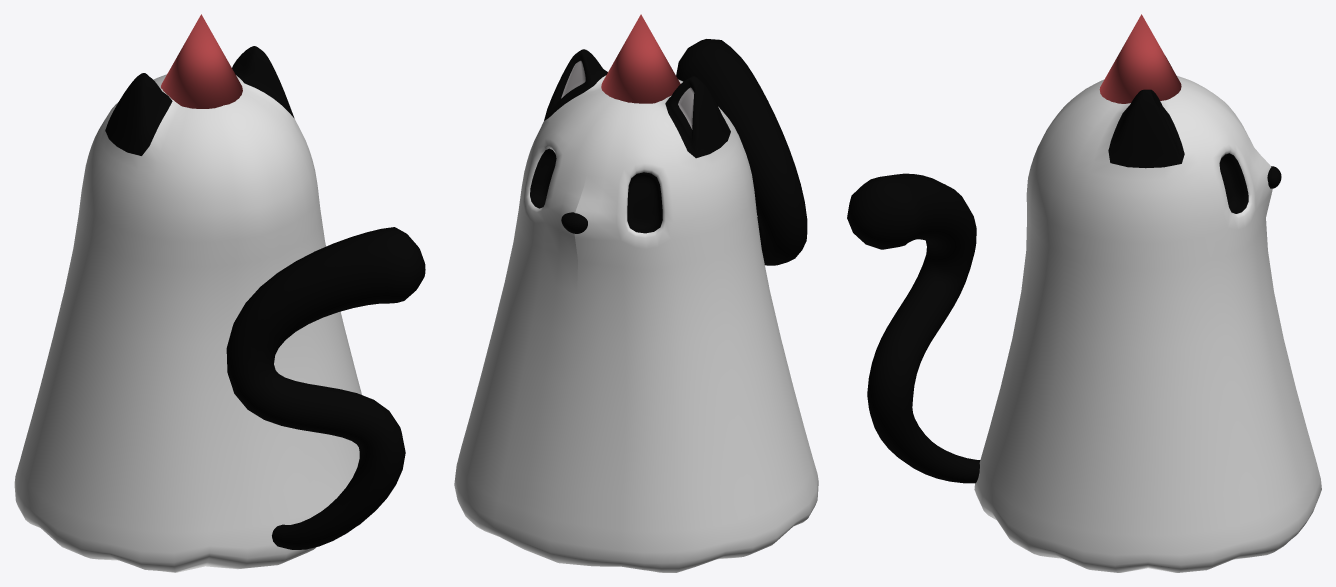
Rendered from ghost_red.glb.
3 views of the same model, side by side, from view 1: azimuth 30°, elevation 25°; view 2: azimuth 150°, elevation 25°; view 3: azimuth 270°, elevation 25° (orthographic).
Parts seen in each view (by area): view 1: Sphere, BezierCurve, Cone; view 2: Sphere, BezierCurve, Cone; view 3: Sphere, BezierCurve, Cone.
Boxes of the visible parts, x1=… form: Sphere: x1=14, y1=46, x2=361, y2=572; BezierCurve: x1=226, y1=227, x2=425, y2=549; Cone: x1=161, y1=14, x2=242, y2=108; Sphere: x1=454, y1=49, x2=818, y2=572; BezierCurve: x1=676, y1=39, x2=807, y2=265; Cone: x1=601, y1=14, x2=680, y2=103; Sphere: x1=974, y1=57, x2=1321, y2=572; BezierCurve: x1=847, y1=173, x2=980, y2=483; Cone: x1=1099, y1=14, x2=1181, y2=103.
Bounding box in the file's own units: 4.1 × 6.06 × 5.25.
